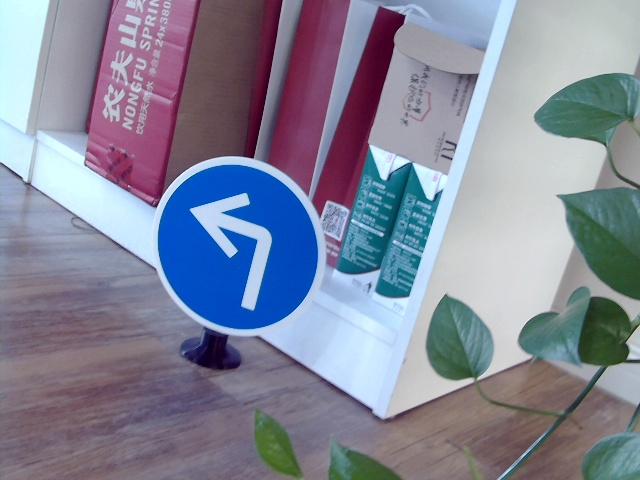turn_left: (190, 184, 278, 310)
